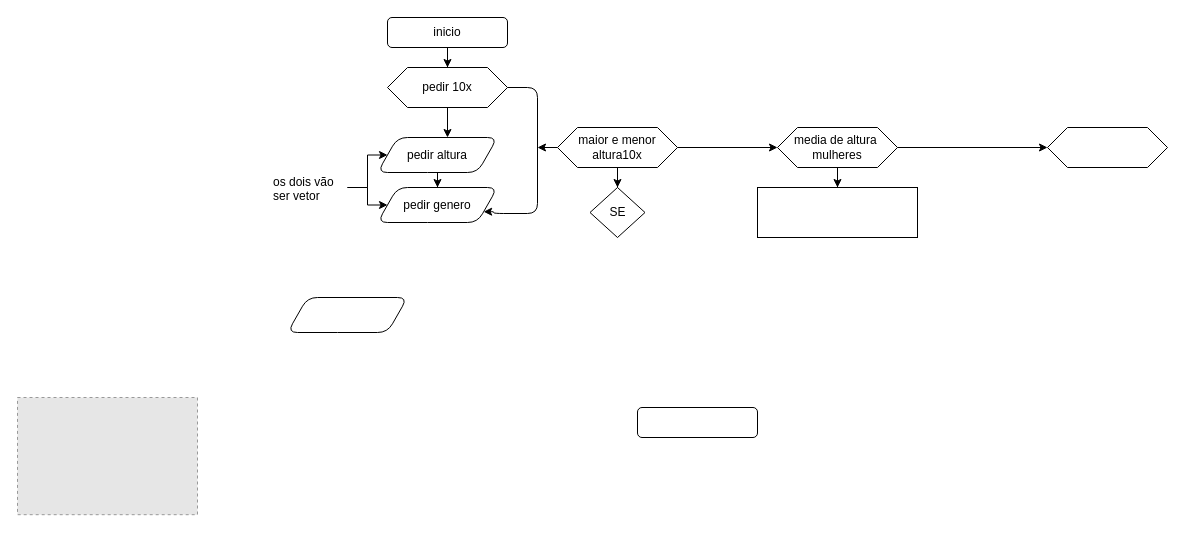
This 1185x533 diagram has some shape labels left out. Grey dashed boxes stand in for pictures. Each missing label, with the centre of its shape:
fim: (697,422)
media_altura = alturas/ por nº de pessoas: (837,212)
total de homens: (1107,147)
